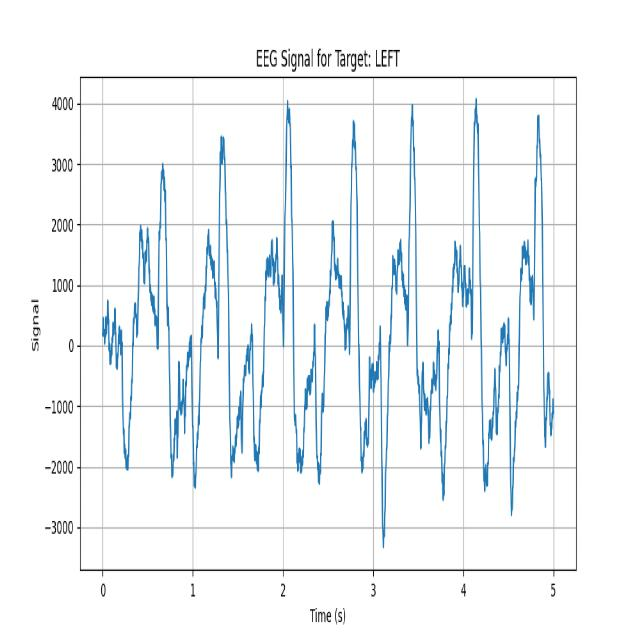LEFT: (434, 95, 505, 536), (180, 116, 249, 519), (374, 95, 434, 553), (251, 94, 315, 503), (315, 93, 374, 503), (504, 94, 558, 534), (119, 157, 183, 520)
